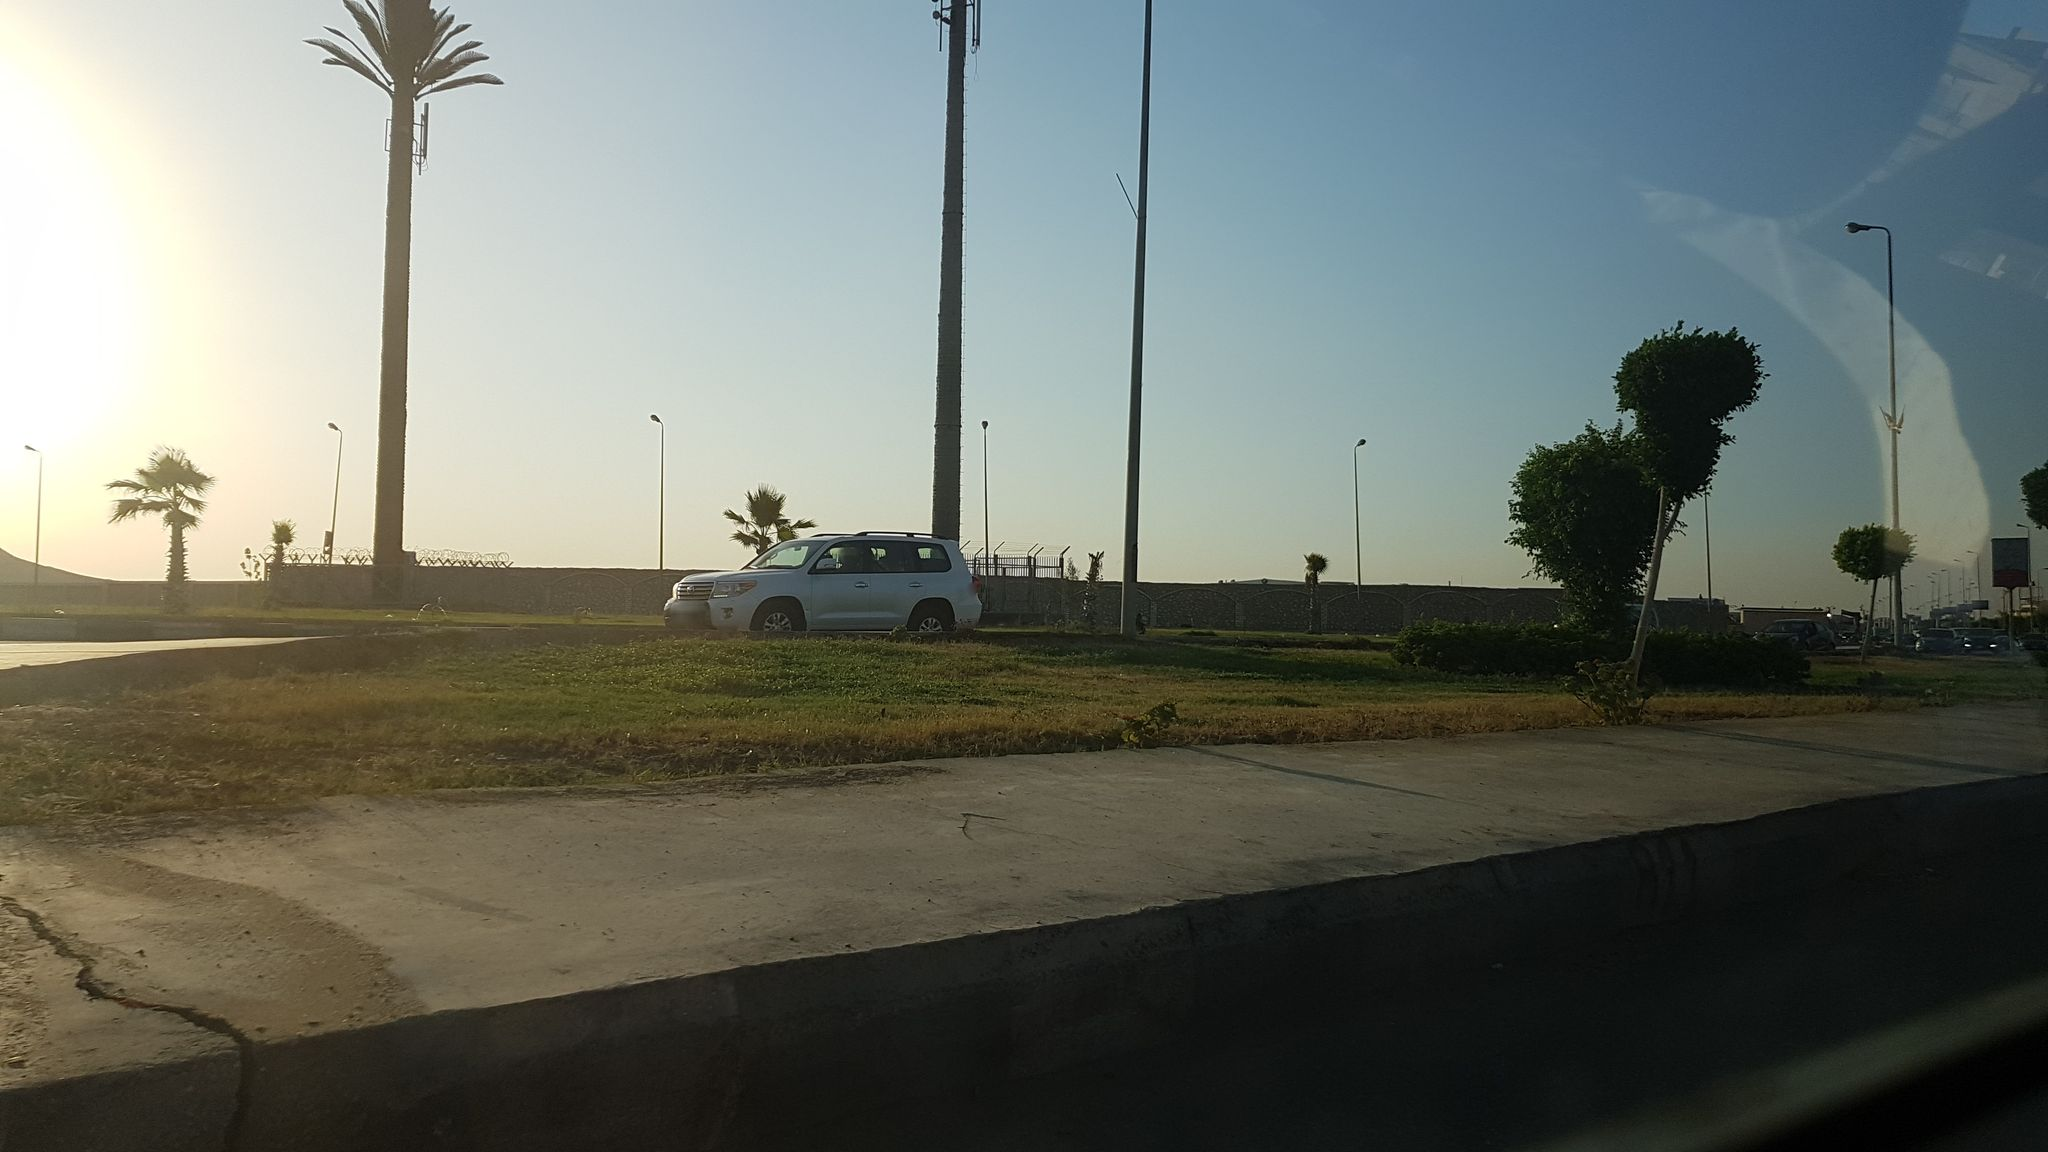car: (665, 527, 985, 639), (1751, 619, 1836, 653), (1914, 627, 1959, 654), (1962, 626, 1999, 654)
